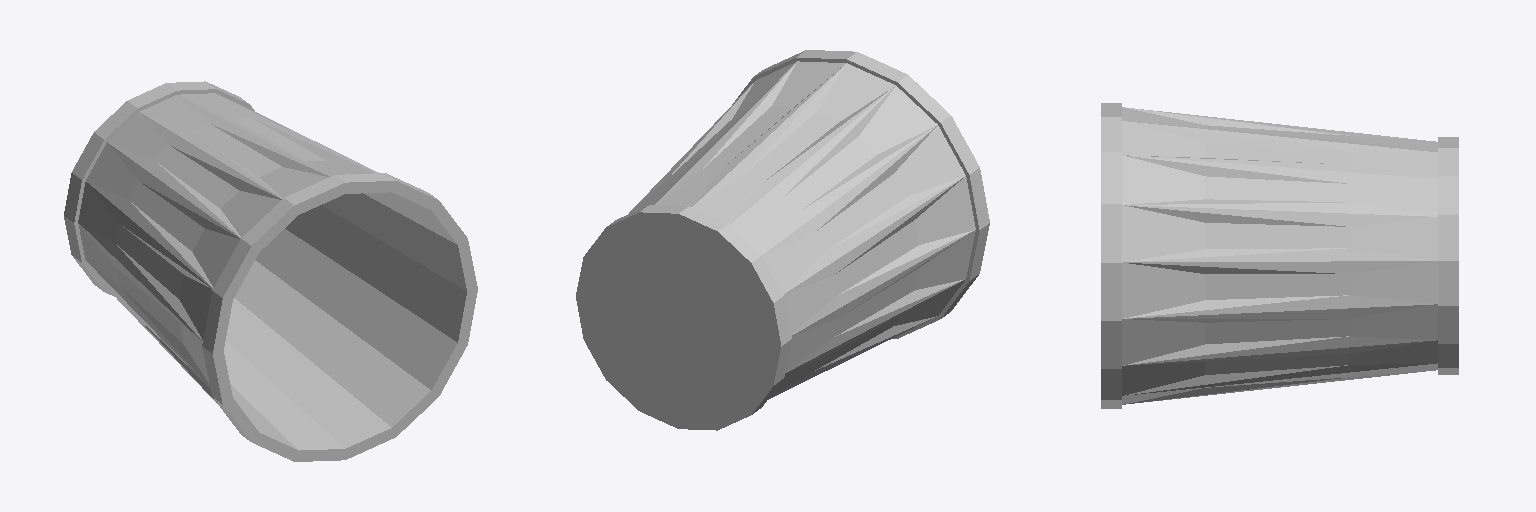
File: bin.obj
3 renders of one model, left to right at view 1: azimuth 30°, elevation 25°; view 2: azimuth 150°, elevation 25°; view 3: azimuth 270°, elevation 25°, orthographic.
Parts seen in each view (by area): view 1: bin; view 2: bin; view 3: bin.
Boxes of the visible parts, x1=… form: bin: x1=64, y1=81, x2=477, y2=461; bin: x1=576, y1=50, x2=989, y2=430; bin: x1=1101, y1=103, x2=1458, y2=408.
Size of the model in its own units: 2.06 by 2.06 by 2.4.